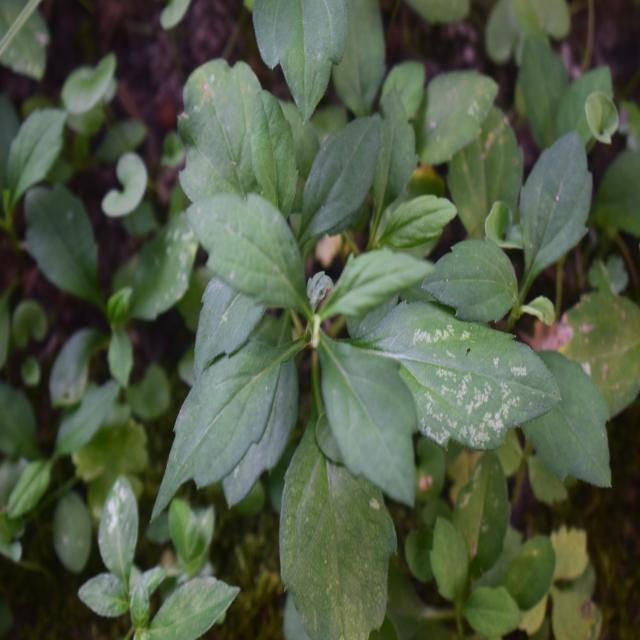Indian aster: (167, 135, 508, 517)
